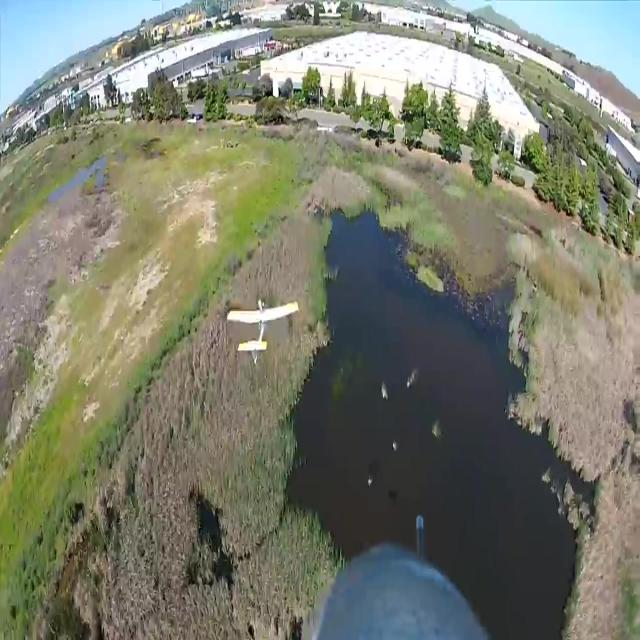iha: (255, 323, 258, 325)
